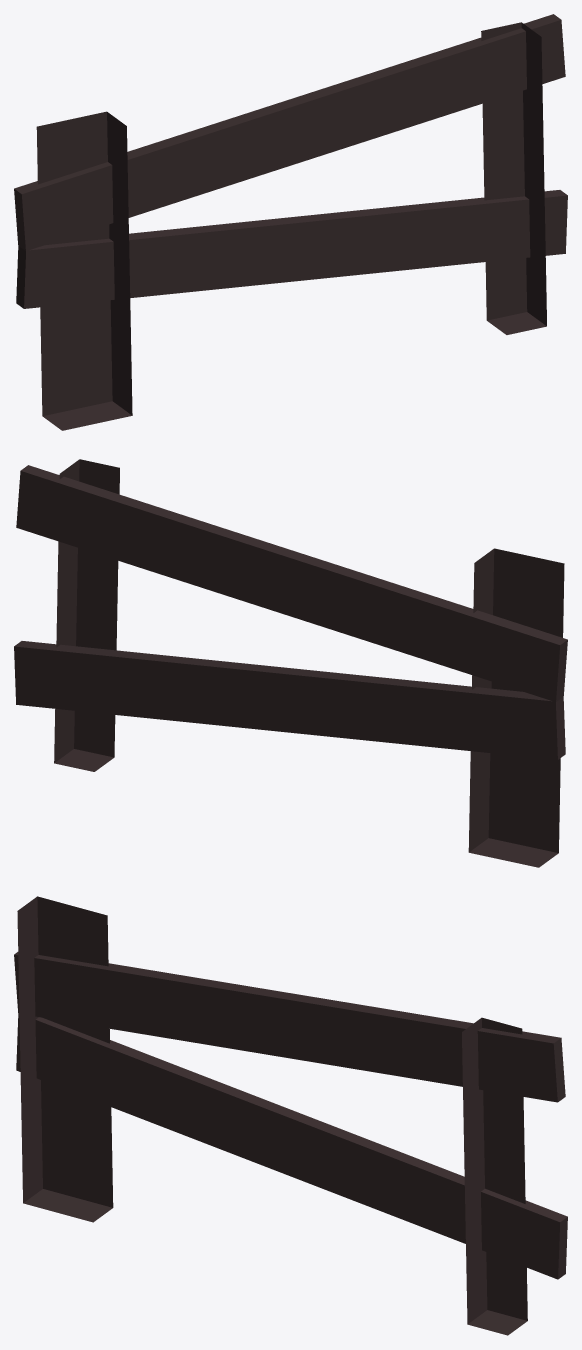
The model's file is Zabor.obj.
The picture shows the model from 3 angles, top to bottom: view 1: azimuth 30°, elevation 25°; view 2: azimuth 150°, elevation 25°; view 3: azimuth 330°, elevation 25°; orthographic projection.
Parts seen in each view (by area): view 1: Cube.002; view 2: Cube.002; view 3: Cube.002.
Part boxes in pixels (x1,y1,x2,y2): Cube.002: (14,14,567,430); Cube.002: (14,459,567,867); Cube.002: (14,896,567,1335).
Bounding box in the file's own units: 2.58 × 1.38 × 0.1924.
1 material, 1 textured.
